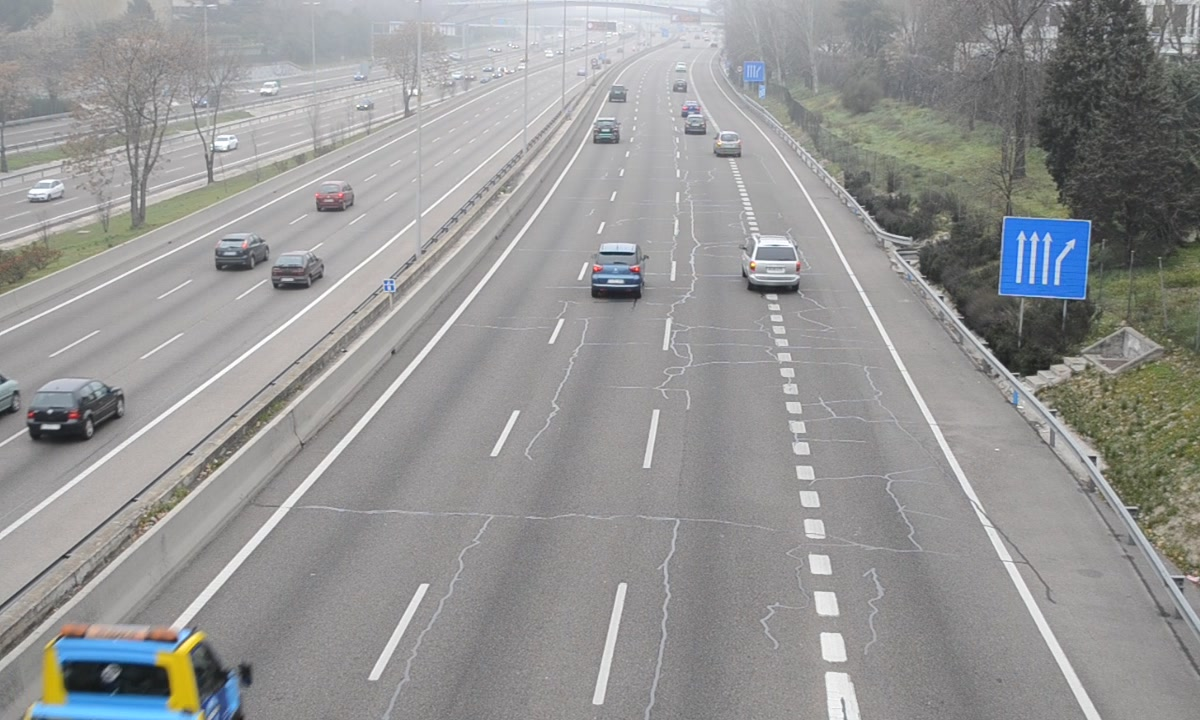car: (742, 235, 800, 290), (589, 243, 644, 295), (592, 117, 621, 145), (714, 130, 742, 158)
